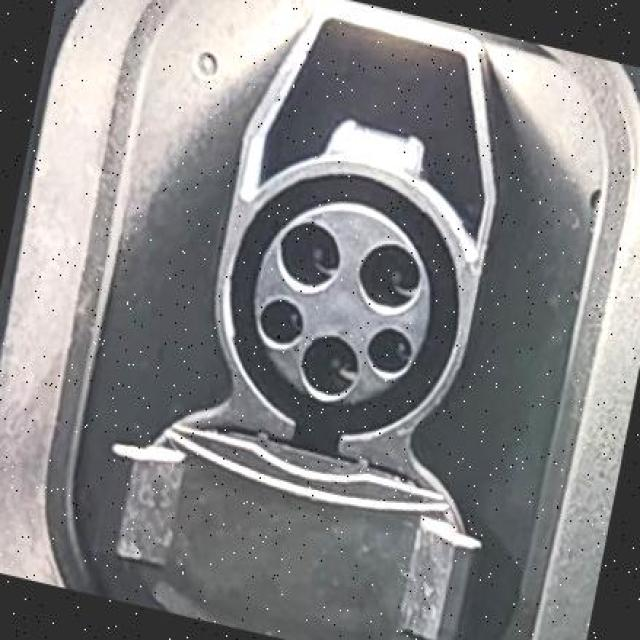Type 1: (228, 171, 467, 425)
